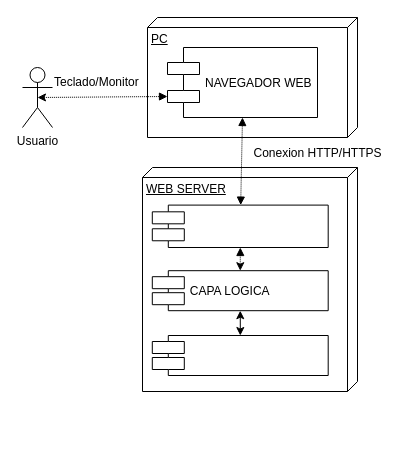
The diagram is 412 pixels wide and 465 high, and some of its shapes have lost their labels. The centre of each missing label's shape, as x and y in pixels:
CAPA DE DATOS: pixel 239 355
CAPA PRESENTACION: pixel 239 226
